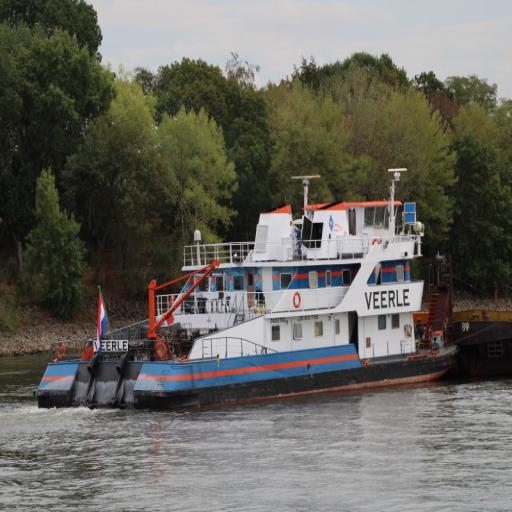tugboat: (27, 165, 465, 441)
